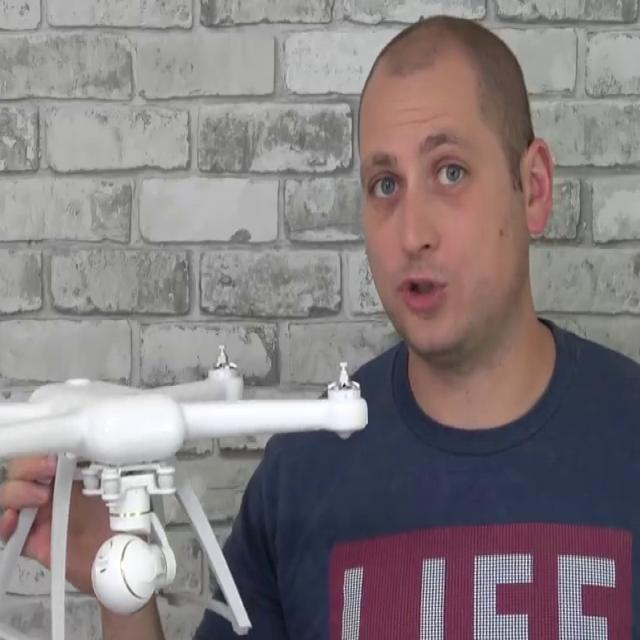drone: (0, 332, 378, 504)
